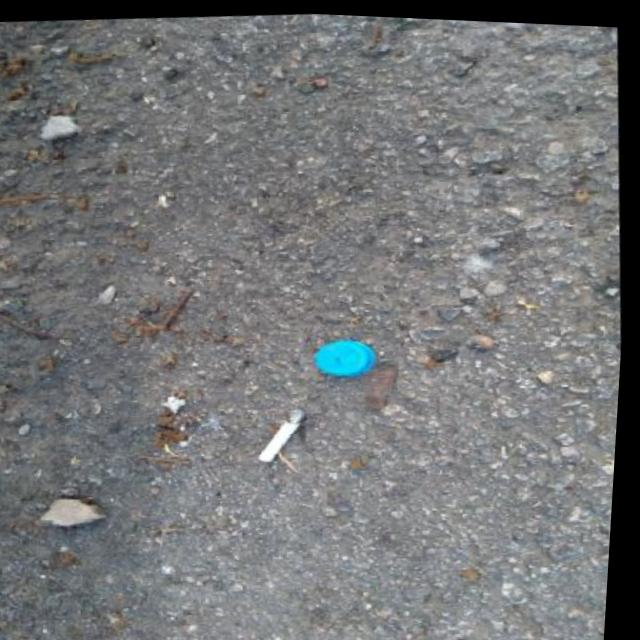plastic: (312, 336, 379, 380)
